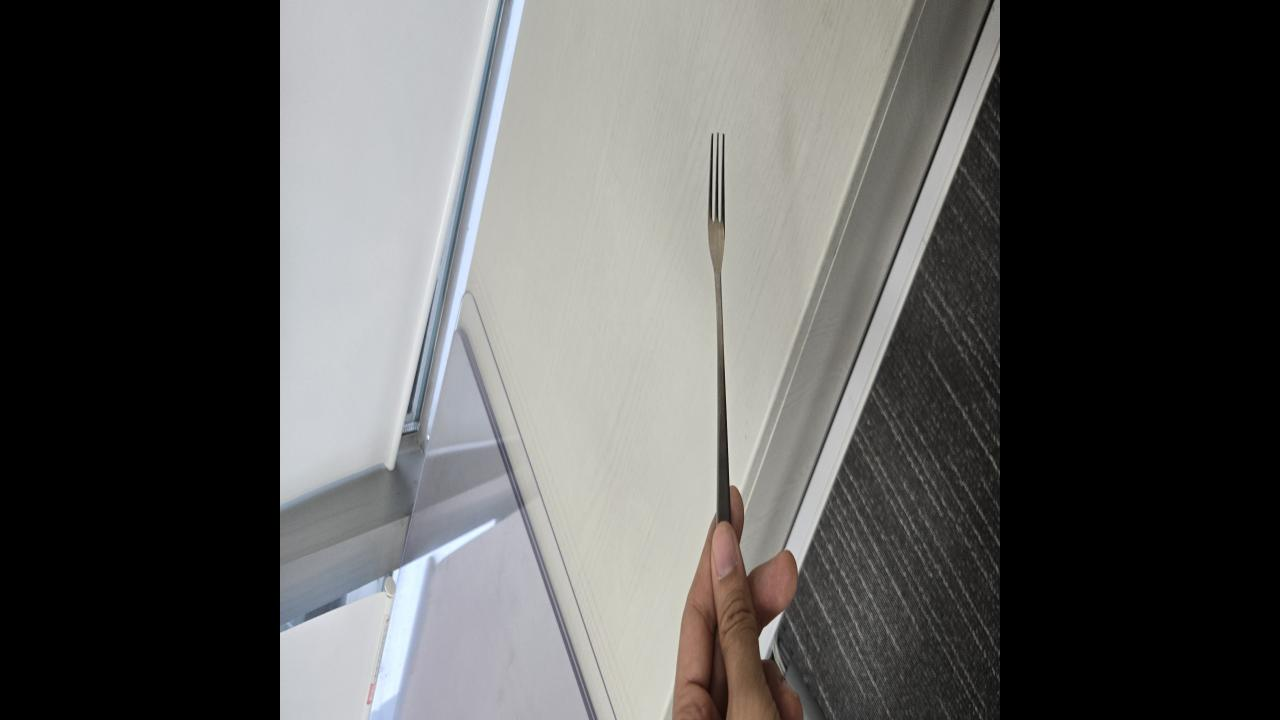fork: (709, 131, 731, 521)
